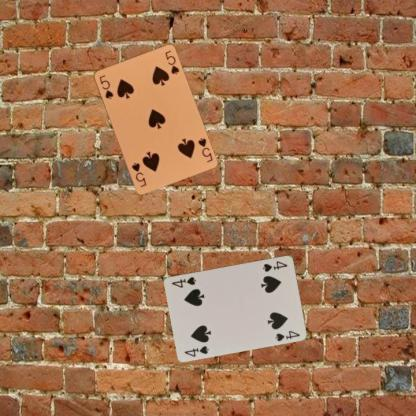4s: (260, 258, 289, 273), (182, 343, 210, 358)
5s: (195, 135, 214, 164), (96, 72, 114, 100)
